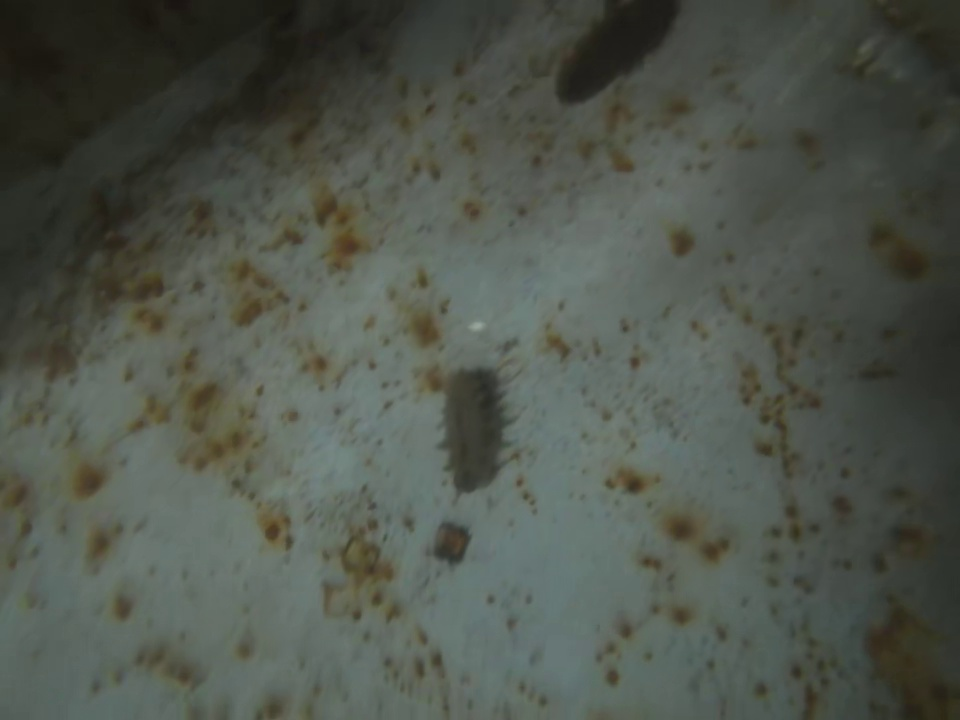seacucumber: (549, 1, 686, 107), (438, 361, 519, 497)
